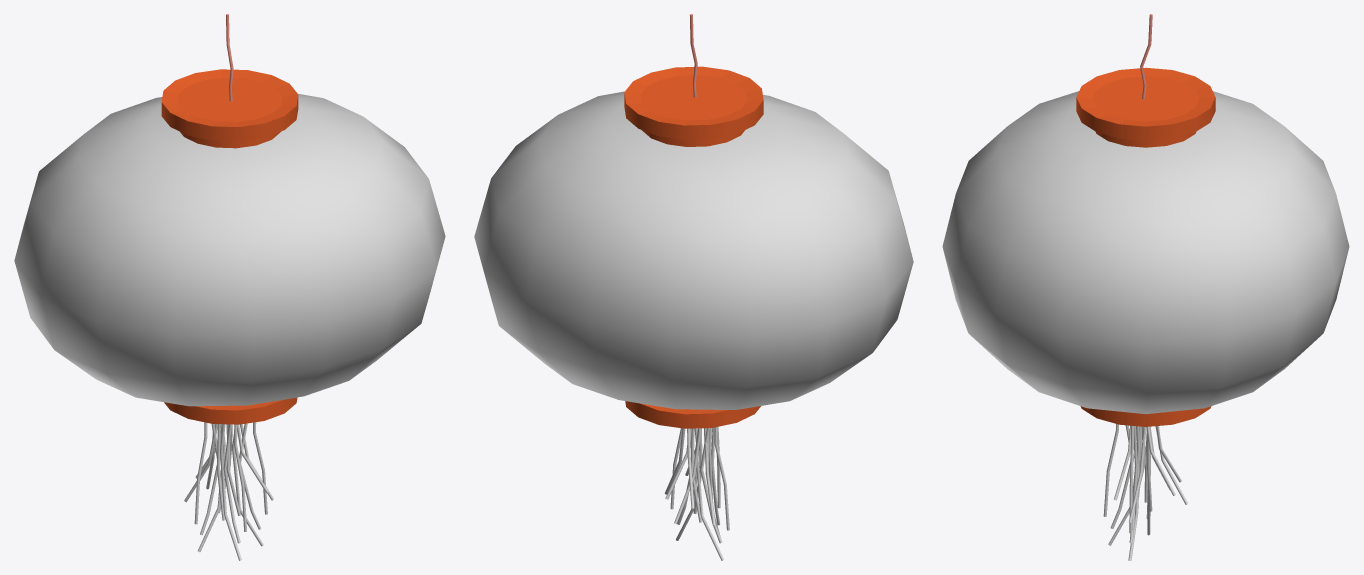
The model's file is lanterns.fbx.
3 renders of one model, left to right at view 1: azimuth 30°, elevation 25°; view 2: azimuth 150°, elevation 25°; view 3: azimuth 270°, elevation 25°, orthographic.
Visible parts, largest first — view 1: Sphere038, Cylinder134, Cylinder135, Line016, Line017, Line018; view 2: Sphere038, Cylinder134, Cylinder135, Line018, Line017, Line016; view 3: Sphere038, Cylinder134, Cylinder135, Line017, Line016, Line018.
Part boxes in pixels (bbox=[...]): Sphere038: bbox=[14, 93, 445, 406]; Cylinder134: bbox=[161, 69, 298, 148]; Cylinder135: bbox=[164, 397, 297, 424]; Line016: bbox=[206, 424, 246, 560]; Line017: bbox=[184, 422, 267, 546]; Line018: bbox=[194, 422, 273, 552]; Sphere038: bbox=[474, 91, 913, 409]; Cylinder134: bbox=[624, 66, 763, 146]; Cylinder135: bbox=[625, 401, 760, 428]; Line018: bbox=[664, 427, 729, 560]; Line017: bbox=[670, 428, 715, 540]; Line016: bbox=[665, 426, 720, 536]; Sphere038: bbox=[942, 91, 1349, 414]; Cylinder134: bbox=[1076, 67, 1215, 147]; Cylinder135: bbox=[1080, 406, 1211, 426]; Line017: bbox=[1128, 425, 1181, 560]; Line016: bbox=[1103, 424, 1187, 545]; Line018: bbox=[1114, 425, 1152, 535].
Bounding box in the file's own units: 67.03 × 89.6 × 61.8.
